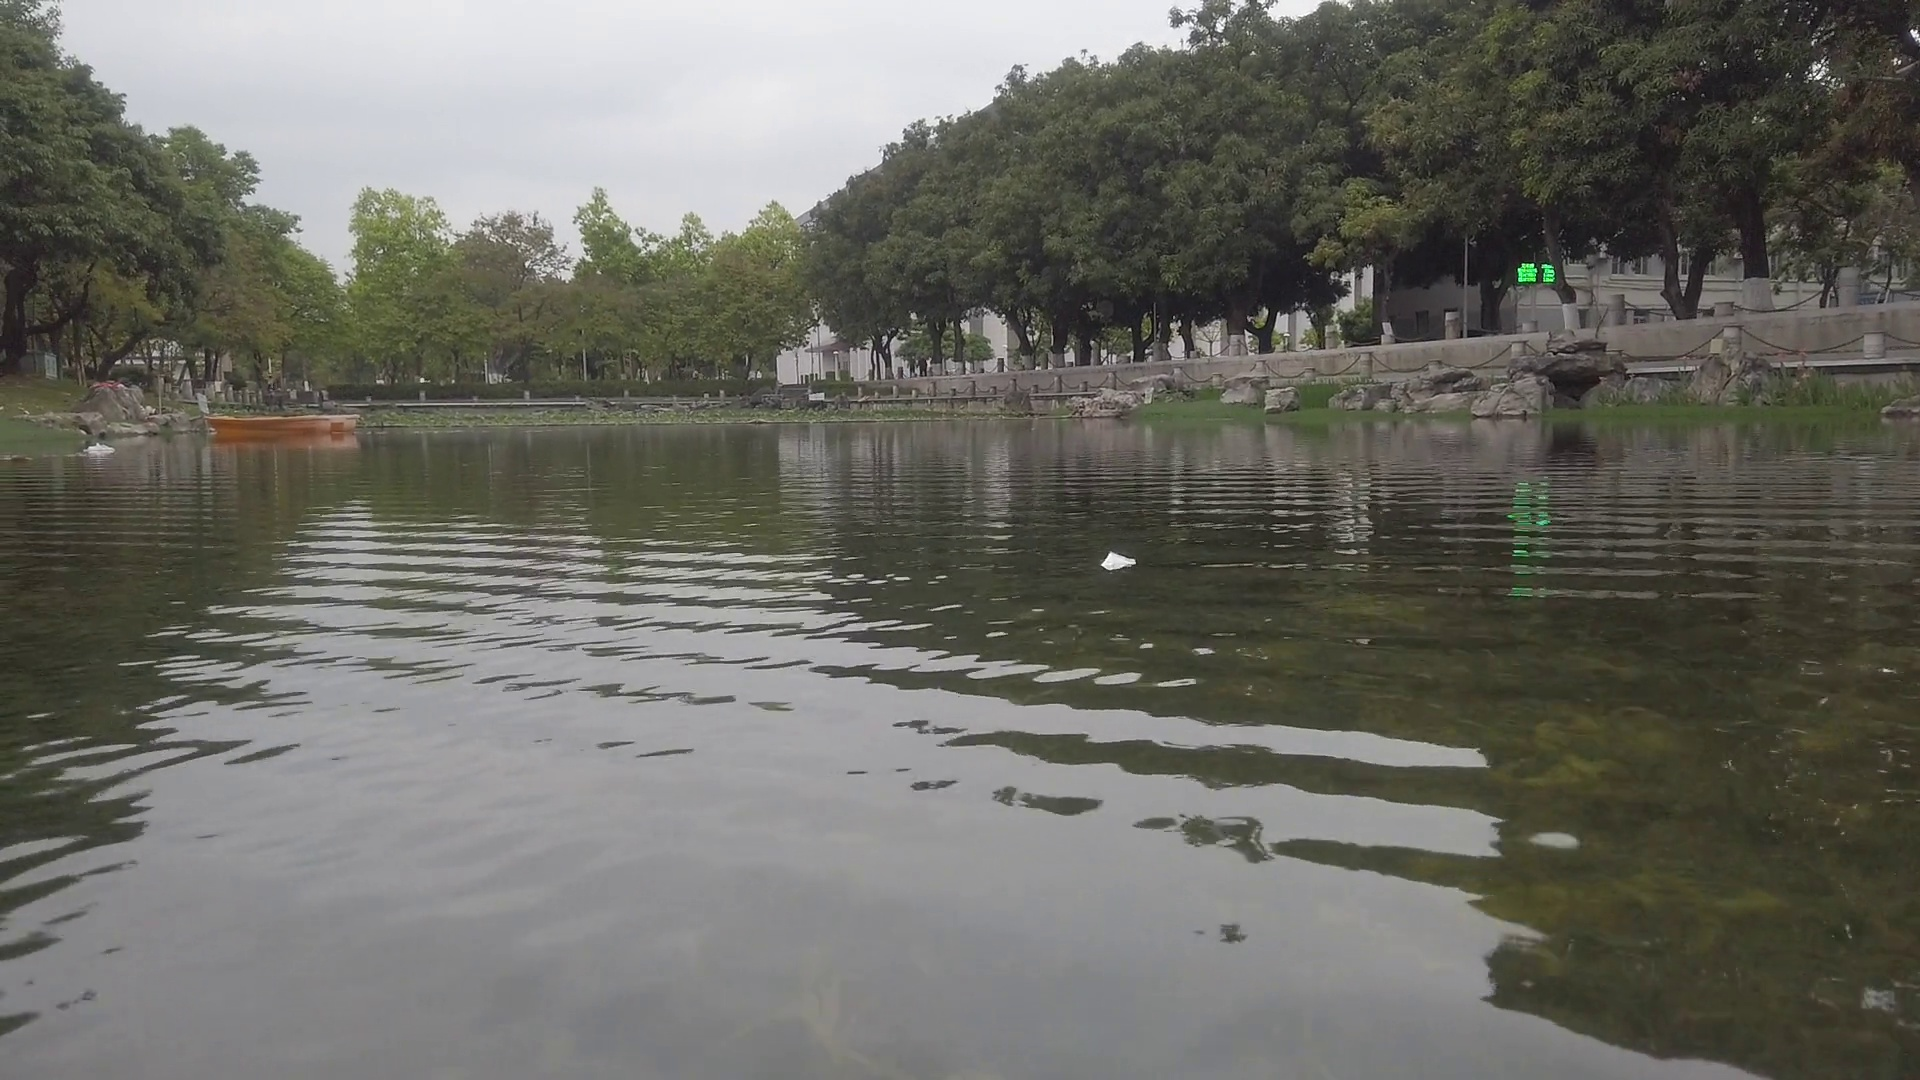paper: (1102, 549, 1142, 571)
plastic: (88, 440, 109, 454)
